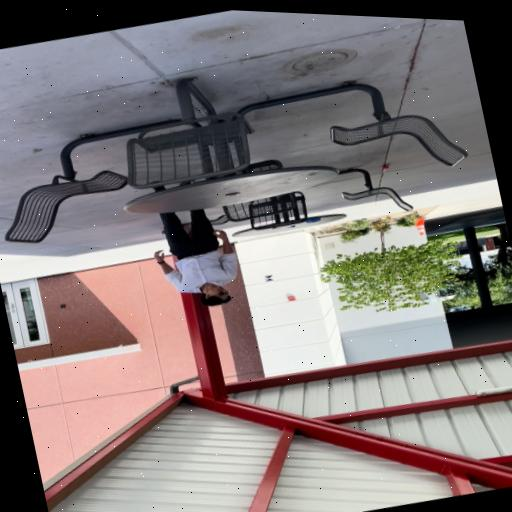target2: (264, 274, 274, 281)
